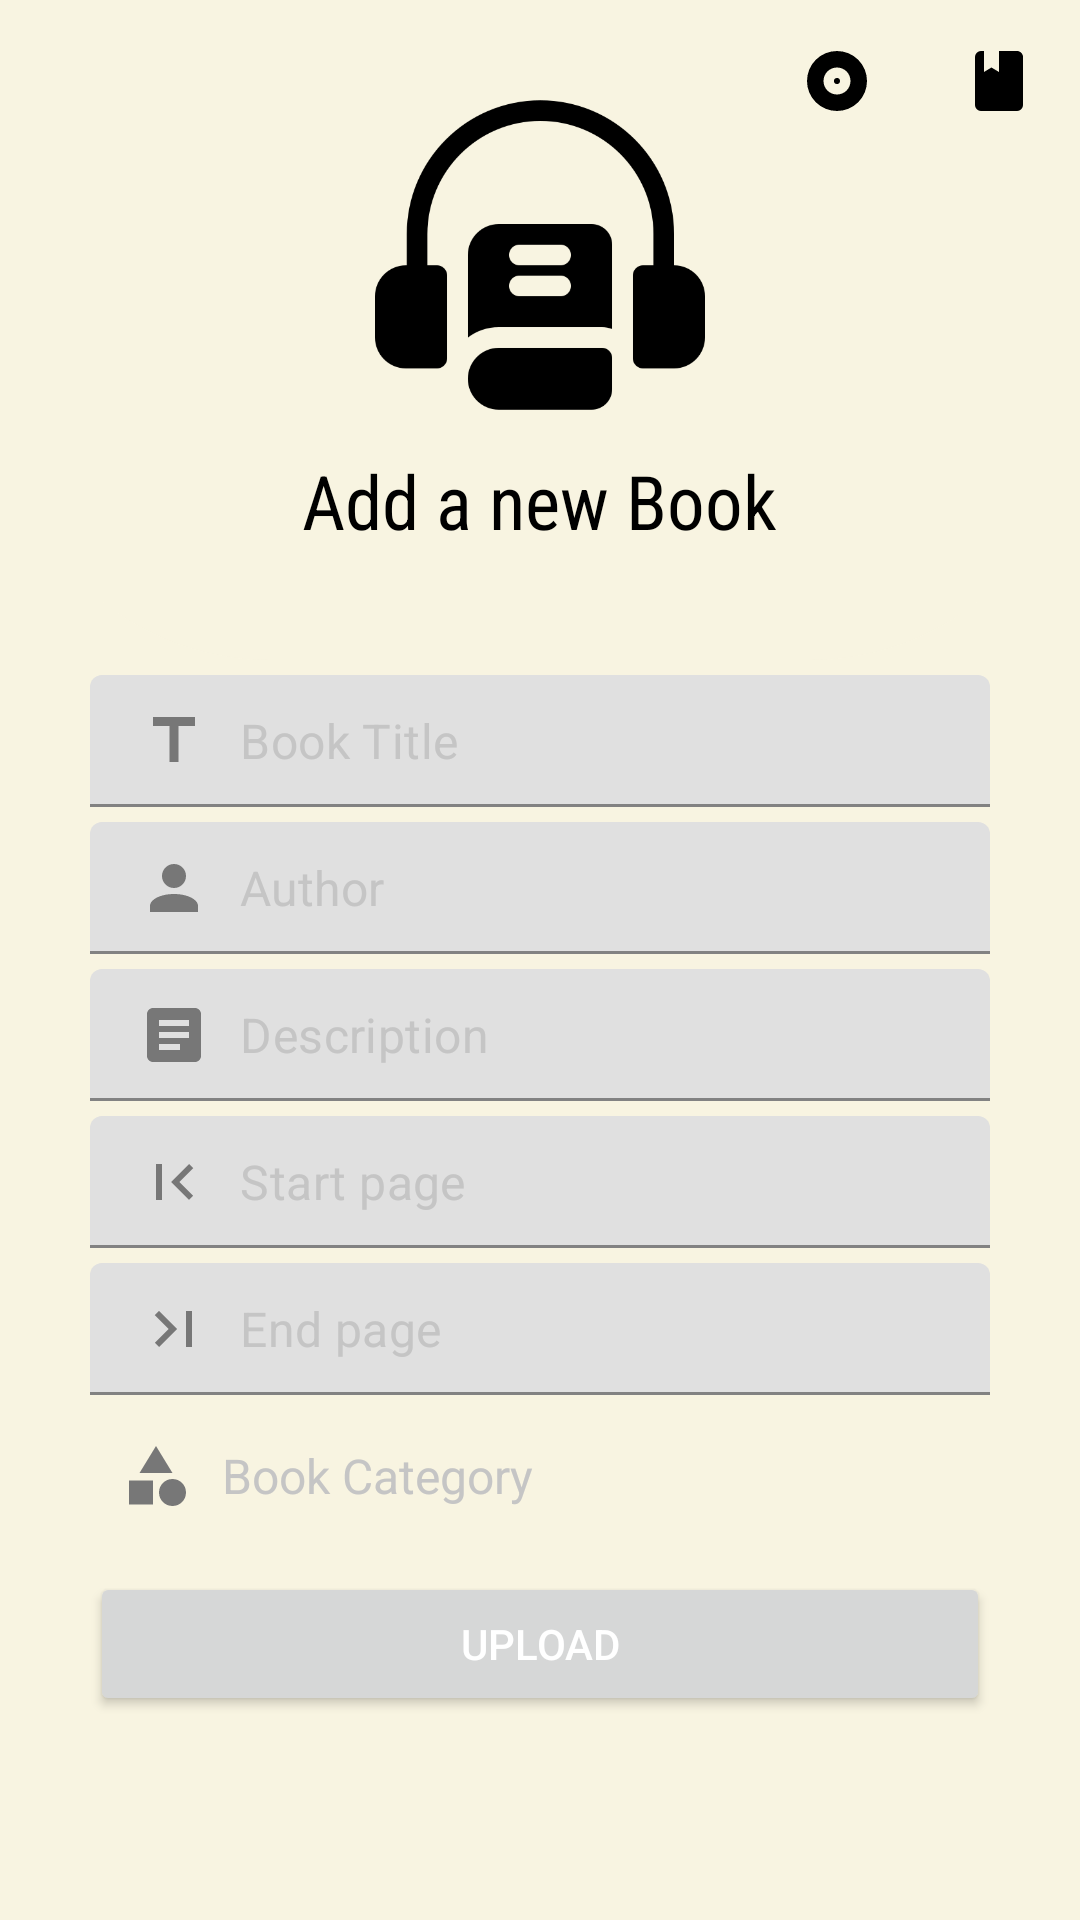

Where to tap for icons on this 1080×1920 app screen, as [x,y]:
album: [837,81]
book: [999,81]
